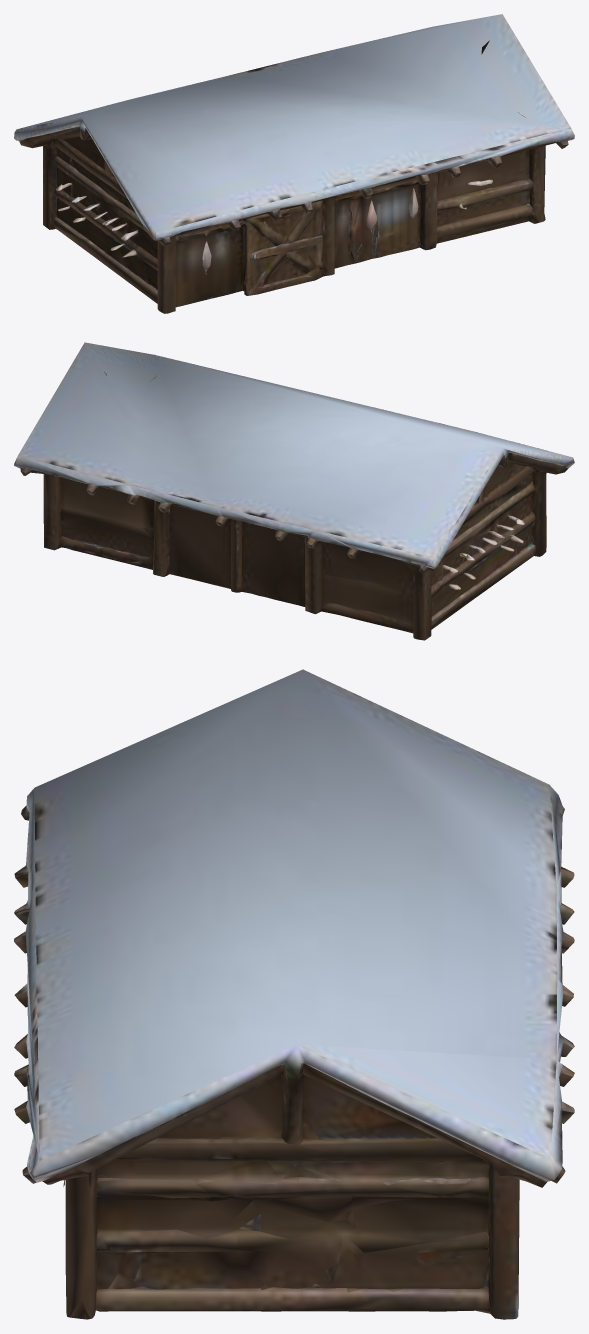
The model's file is long.glb.
3 renders of one model, top to bottom at view 1: azimuth 30°, elevation 25°; view 2: azimuth 150°, elevation 25°; view 3: azimuth 270°, elevation 25°, orthographic. The views are drawn at different scales.
Visible parts, largest first — view 1: Mesh; view 2: Mesh; view 3: Mesh.
Part boxes in pixels (x1,y1,x2,y2): Mesh: (14, 14, 574, 313); Mesh: (14, 342, 574, 640); Mesh: (14, 669, 574, 1319).
Size of the model in its own units: 1.92 by 0.6843 by 1.19.
1 material, 1 textured.
